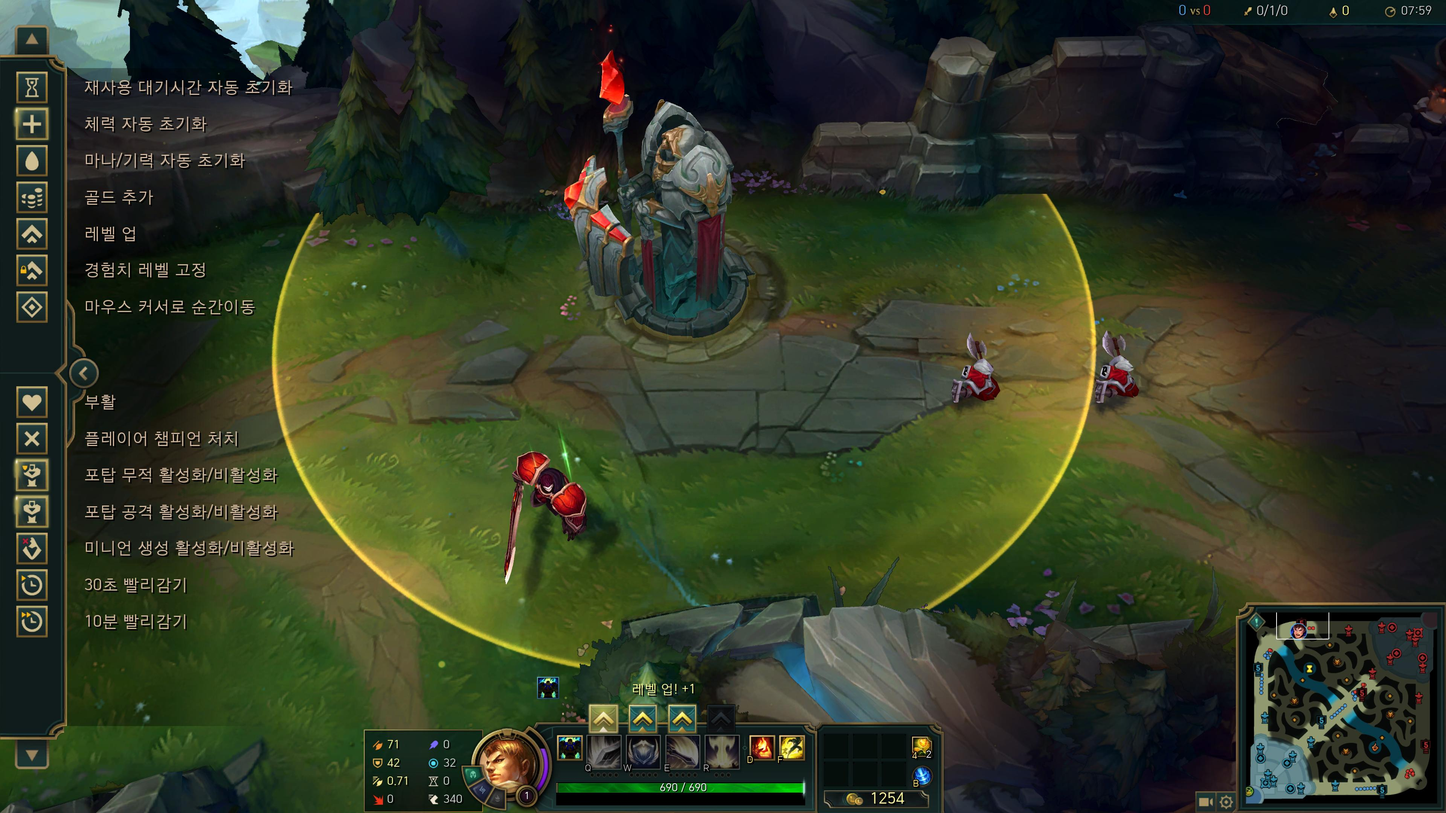enemy-melee-minion: (953, 333, 998, 405), (1095, 332, 1137, 403)
enemy-tower: (563, 50, 779, 359)
